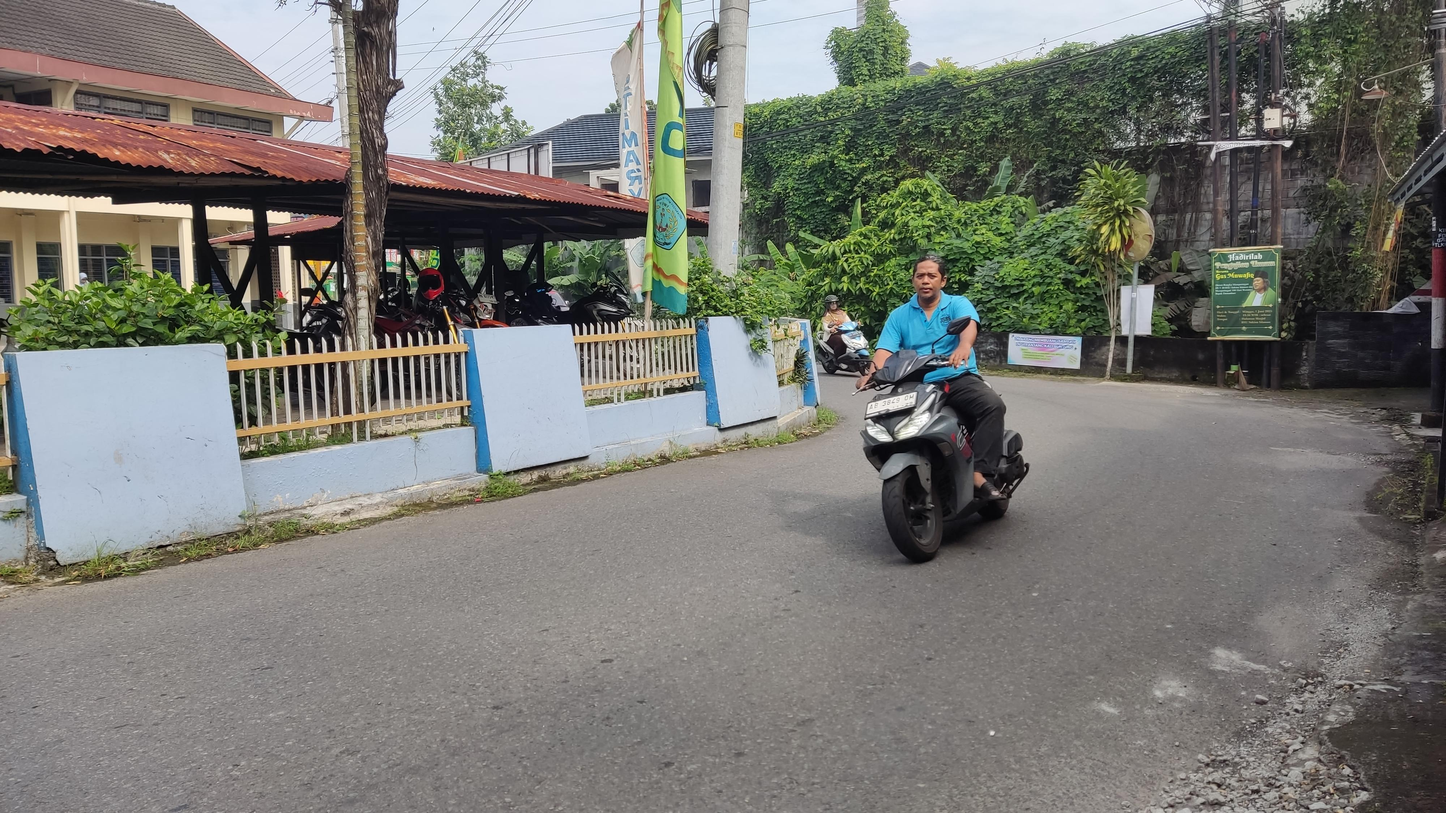nohelm: (907, 254, 951, 302)
riding: (852, 247, 1044, 571)
